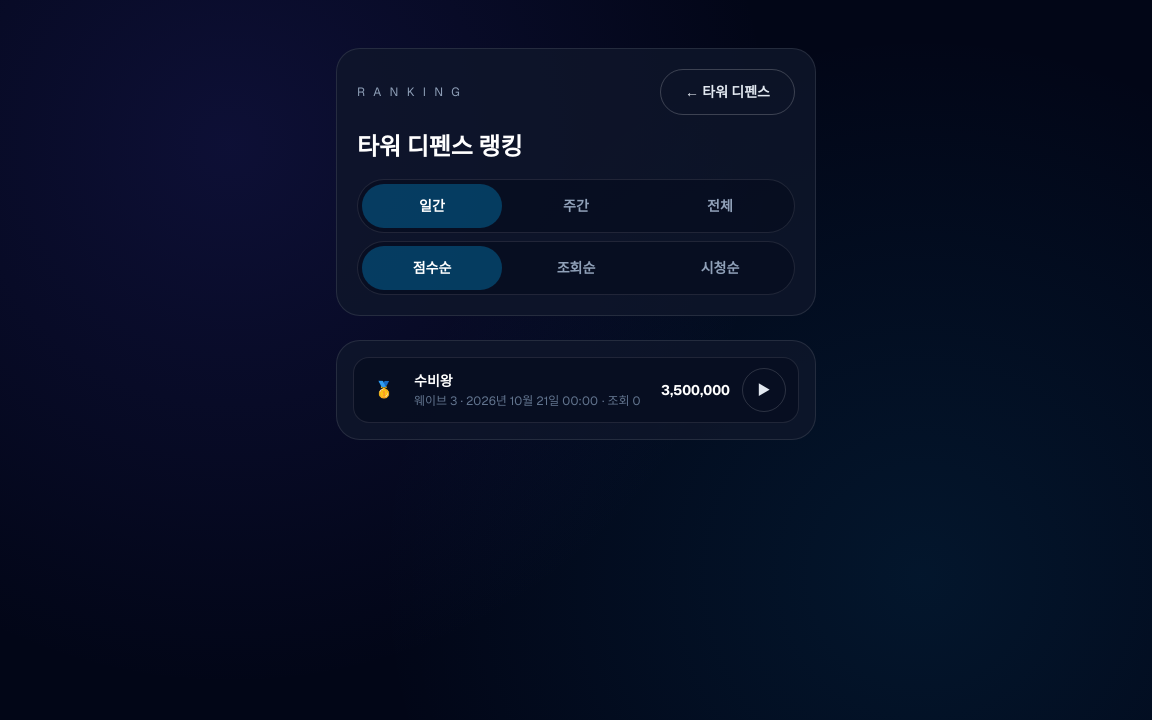
Test case: RankingsView — 게임 사양을 따른다 › 정렬을 빠르게 바꾸면 늦게 온 이전 정렬 응답은 버린다
Click the button "조회순".
click(576, 268)  # box top-left (506, 246), bottom-right (646, 290)
Wait 250 ms
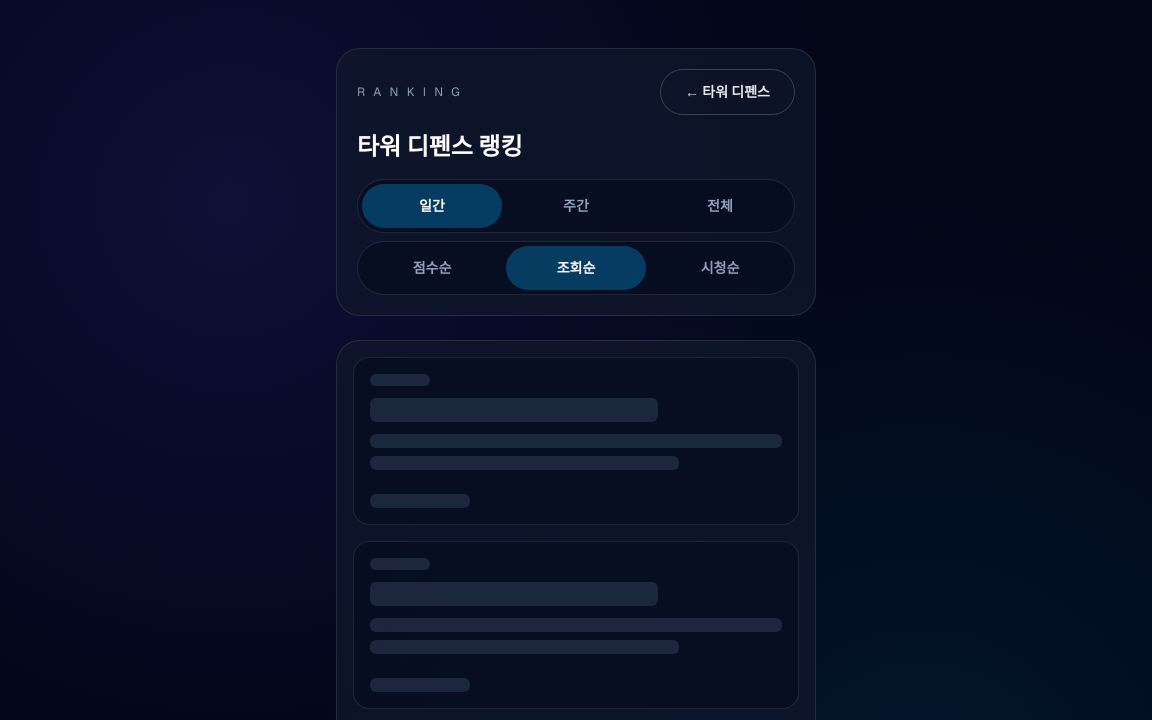
Click the button "시청순".
click(720, 268)  # box top-left (650, 246), bottom-right (790, 290)
Wait 250 ms
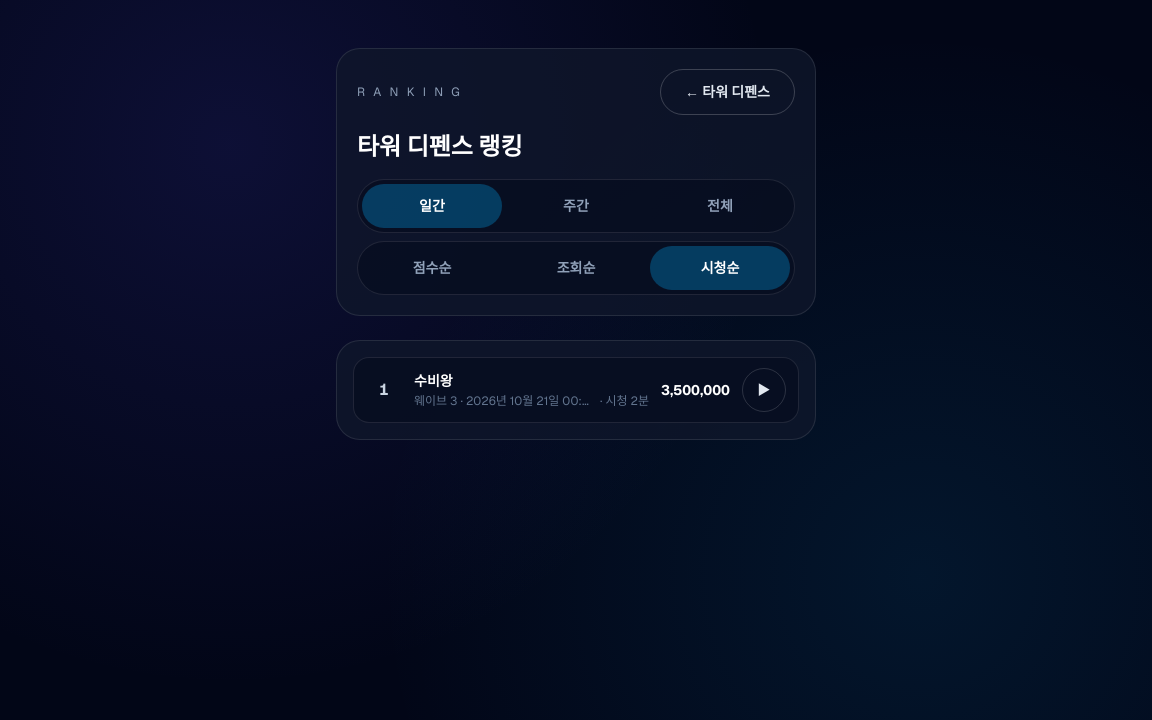
Now the text "· 시청 2분" is shown, box top-left (600, 393), bottom-right (649, 409)
